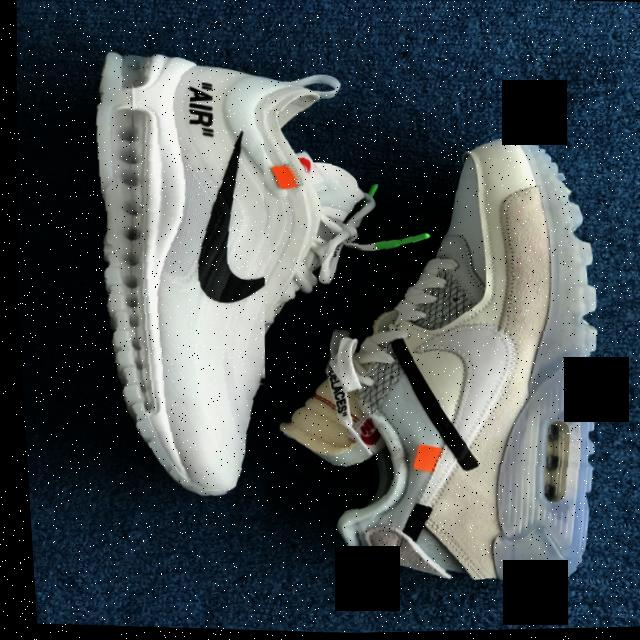shoe: (24, 25, 419, 528), (237, 105, 634, 600)
